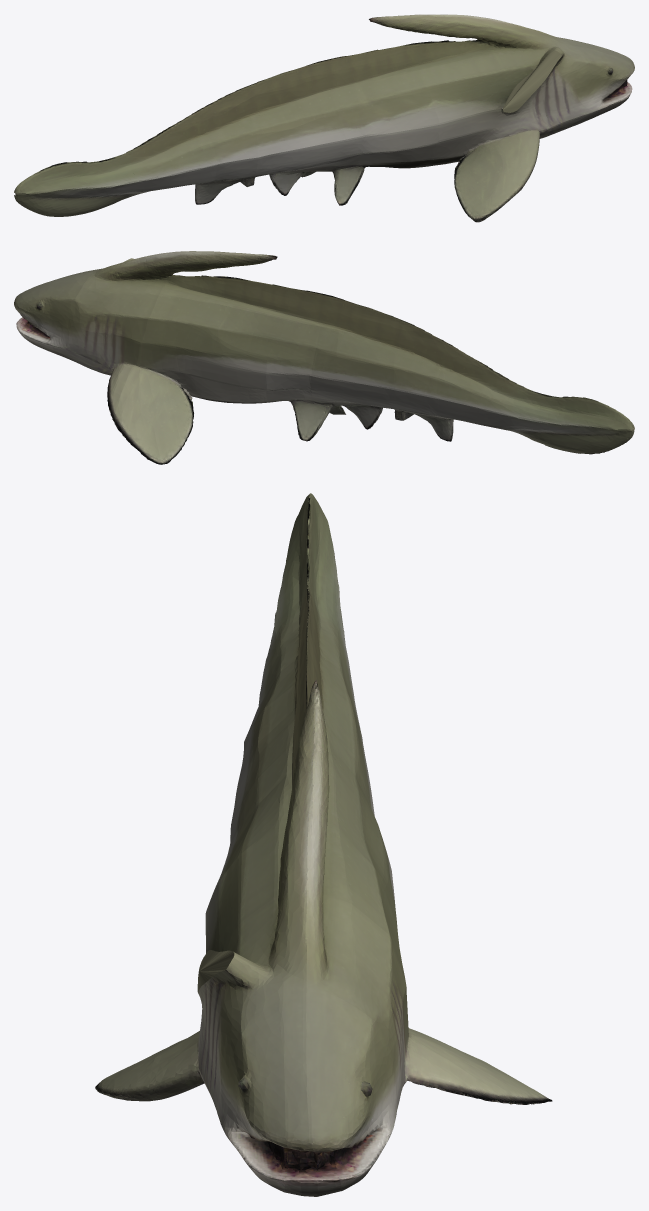
The picture shows the model from 3 angles, top to bottom: view 1: azimuth 30°, elevation 25°; view 2: azimuth 150°, elevation 25°; view 3: azimuth 270°, elevation 25°; orthographic projection. The views are drawn at different scales.
Visible parts, largest first — view 1: world; view 2: world; view 3: world.
Boxes of the visible parts, x1=… form: world: x1=14, y1=14, x2=634, y2=222; world: x1=14, y1=251, x2=634, y2=464; world: x1=95, y1=493, x2=552, y2=1196.
Bounding box in the file's own units: 0.9958 × 0.2778 × 0.3198.
2 materials, 1 textured.
